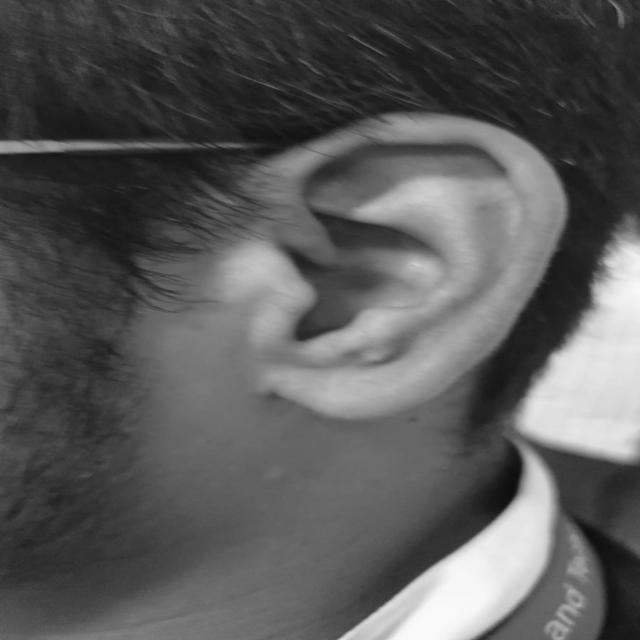ear: (249, 114, 564, 418)
